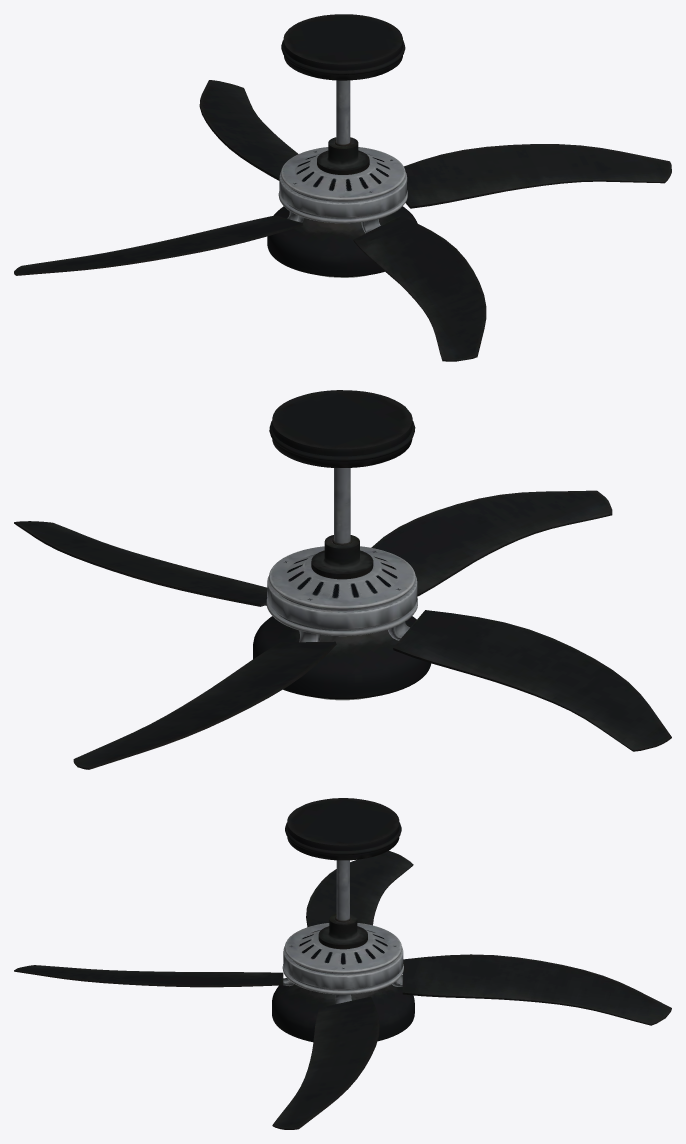
Rendered from ceiling_fan.glb.
3 views of the same model, one above another, from view 1: azimuth 30°, elevation 25°; view 2: azimuth 150°, elevation 25°; view 3: azimuth 270°, elevation 25° (orthographic). The views are drawn at different scales.
Visible parts, largest first — view 1: ceiling_fan; view 2: ceiling_fan; view 3: ceiling_fan.
Part boxes in pixels (left/top/right/bottom): ceiling_fan: left=14, top=14, right=671, bottom=361; ceiling_fan: left=14, top=390, right=671, bottom=769; ceiling_fan: left=14, top=798, right=671, bottom=1129.
Bounding box in the file's own units: 1.46 × 0.5163 × 1.46.
Materials: 1 (1 with a texture image).
